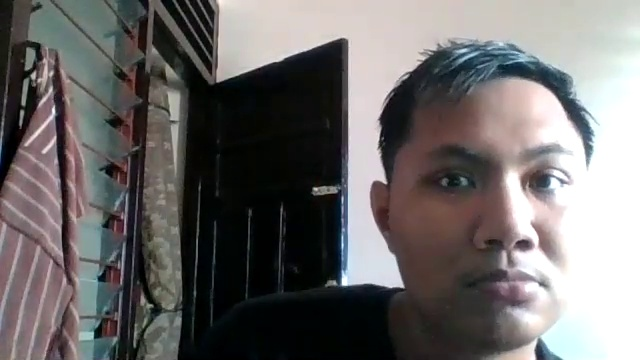Not Distracted: (374, 102, 588, 342)
